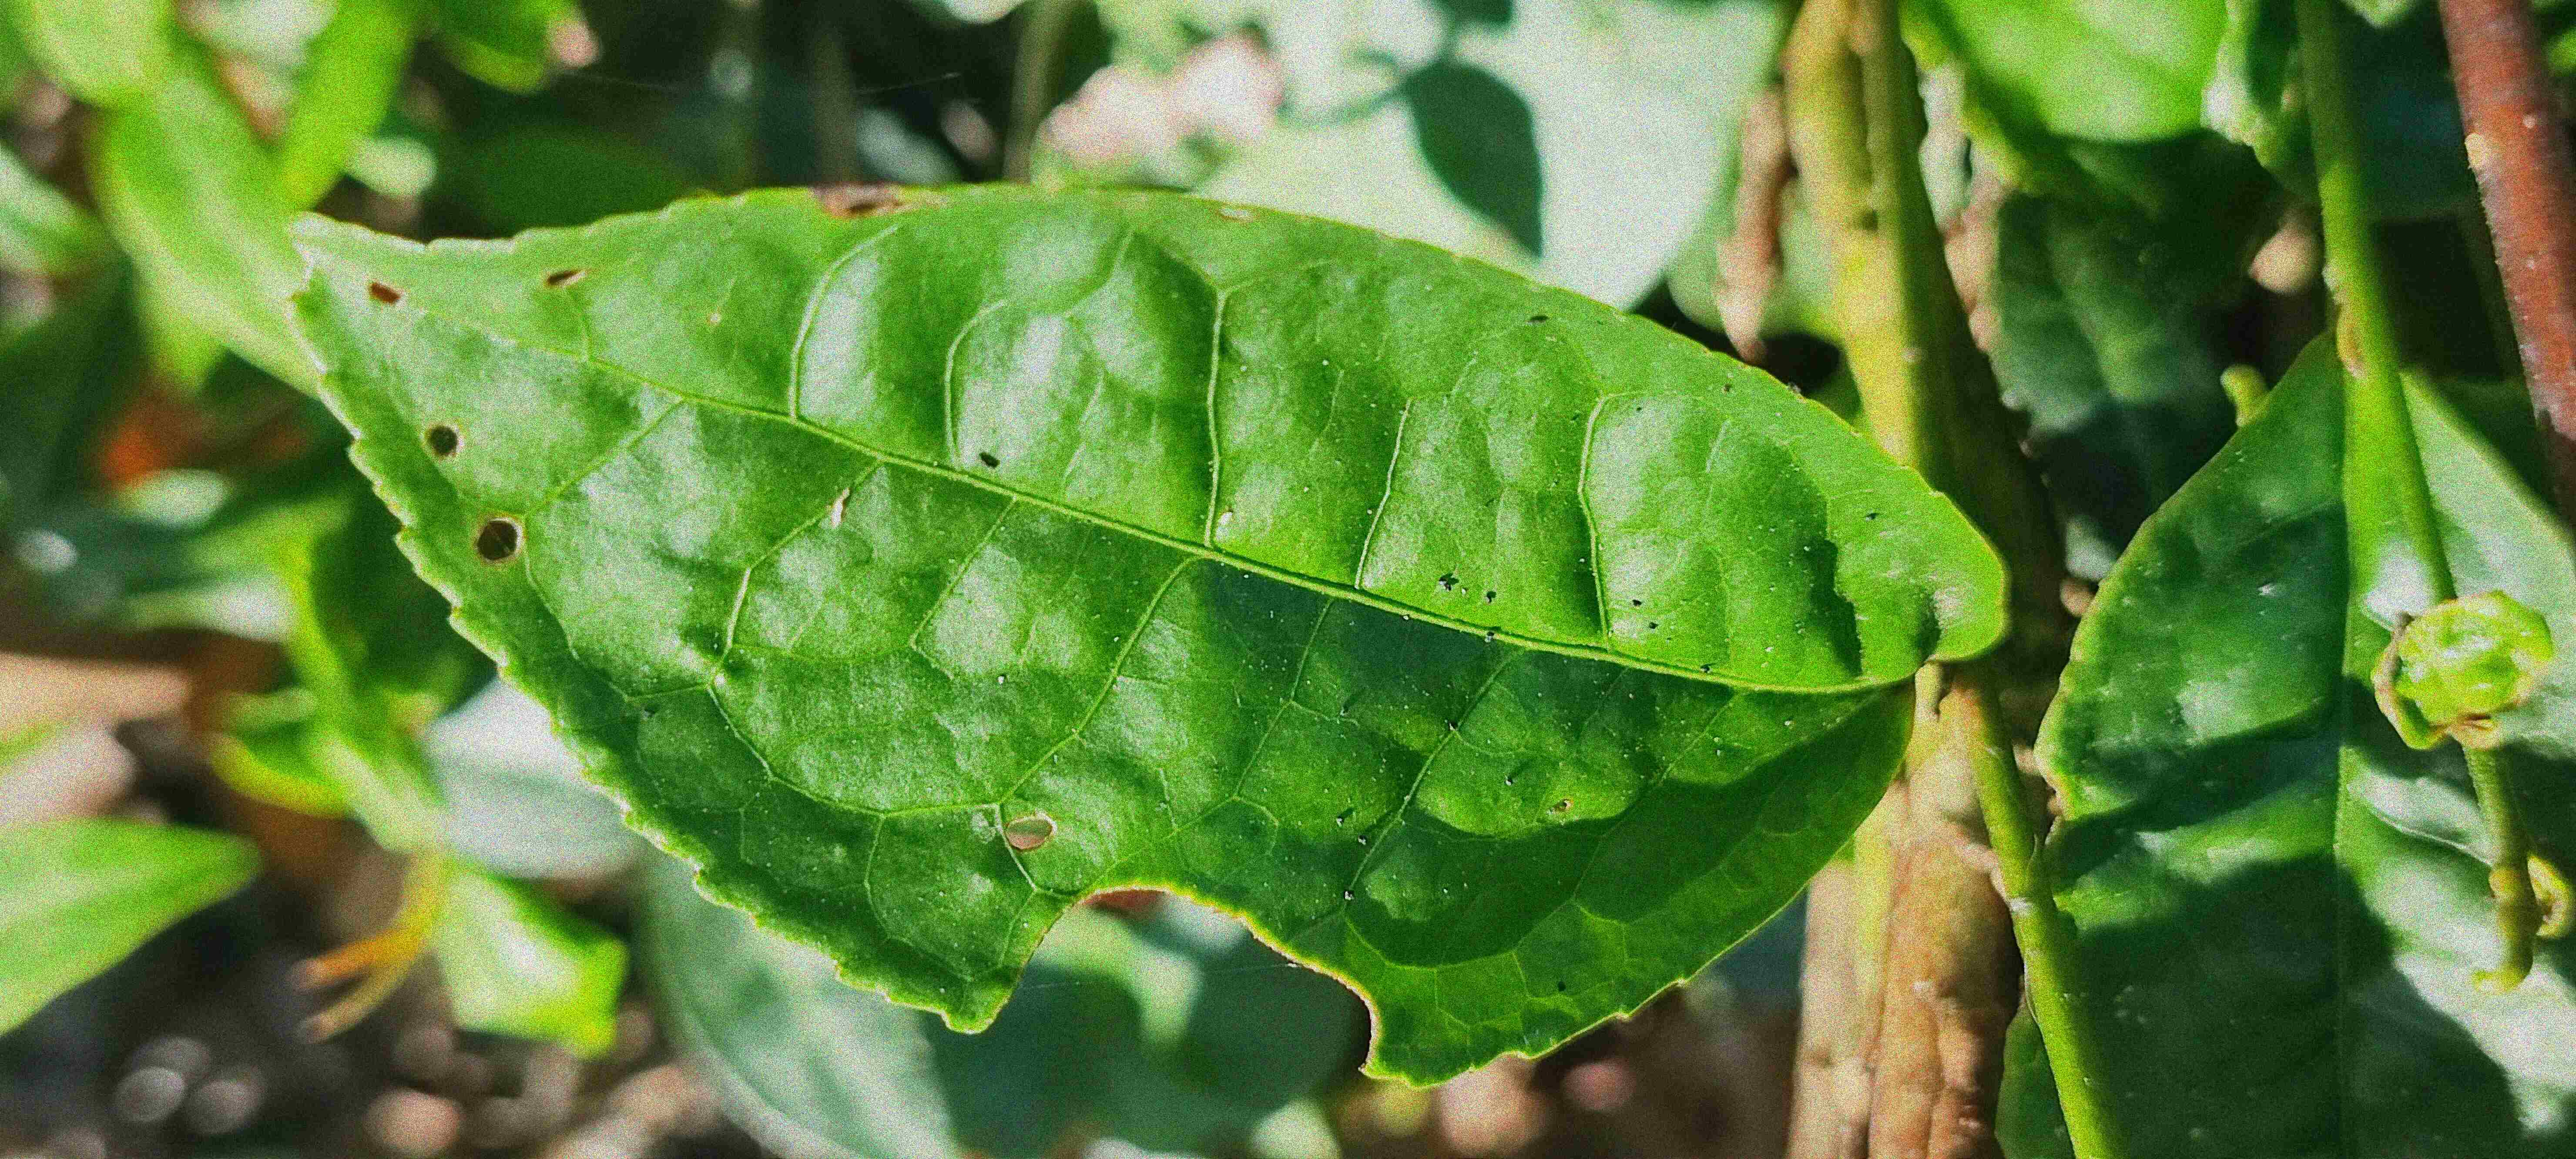chihuo_high: (289, 176, 2008, 1092)
